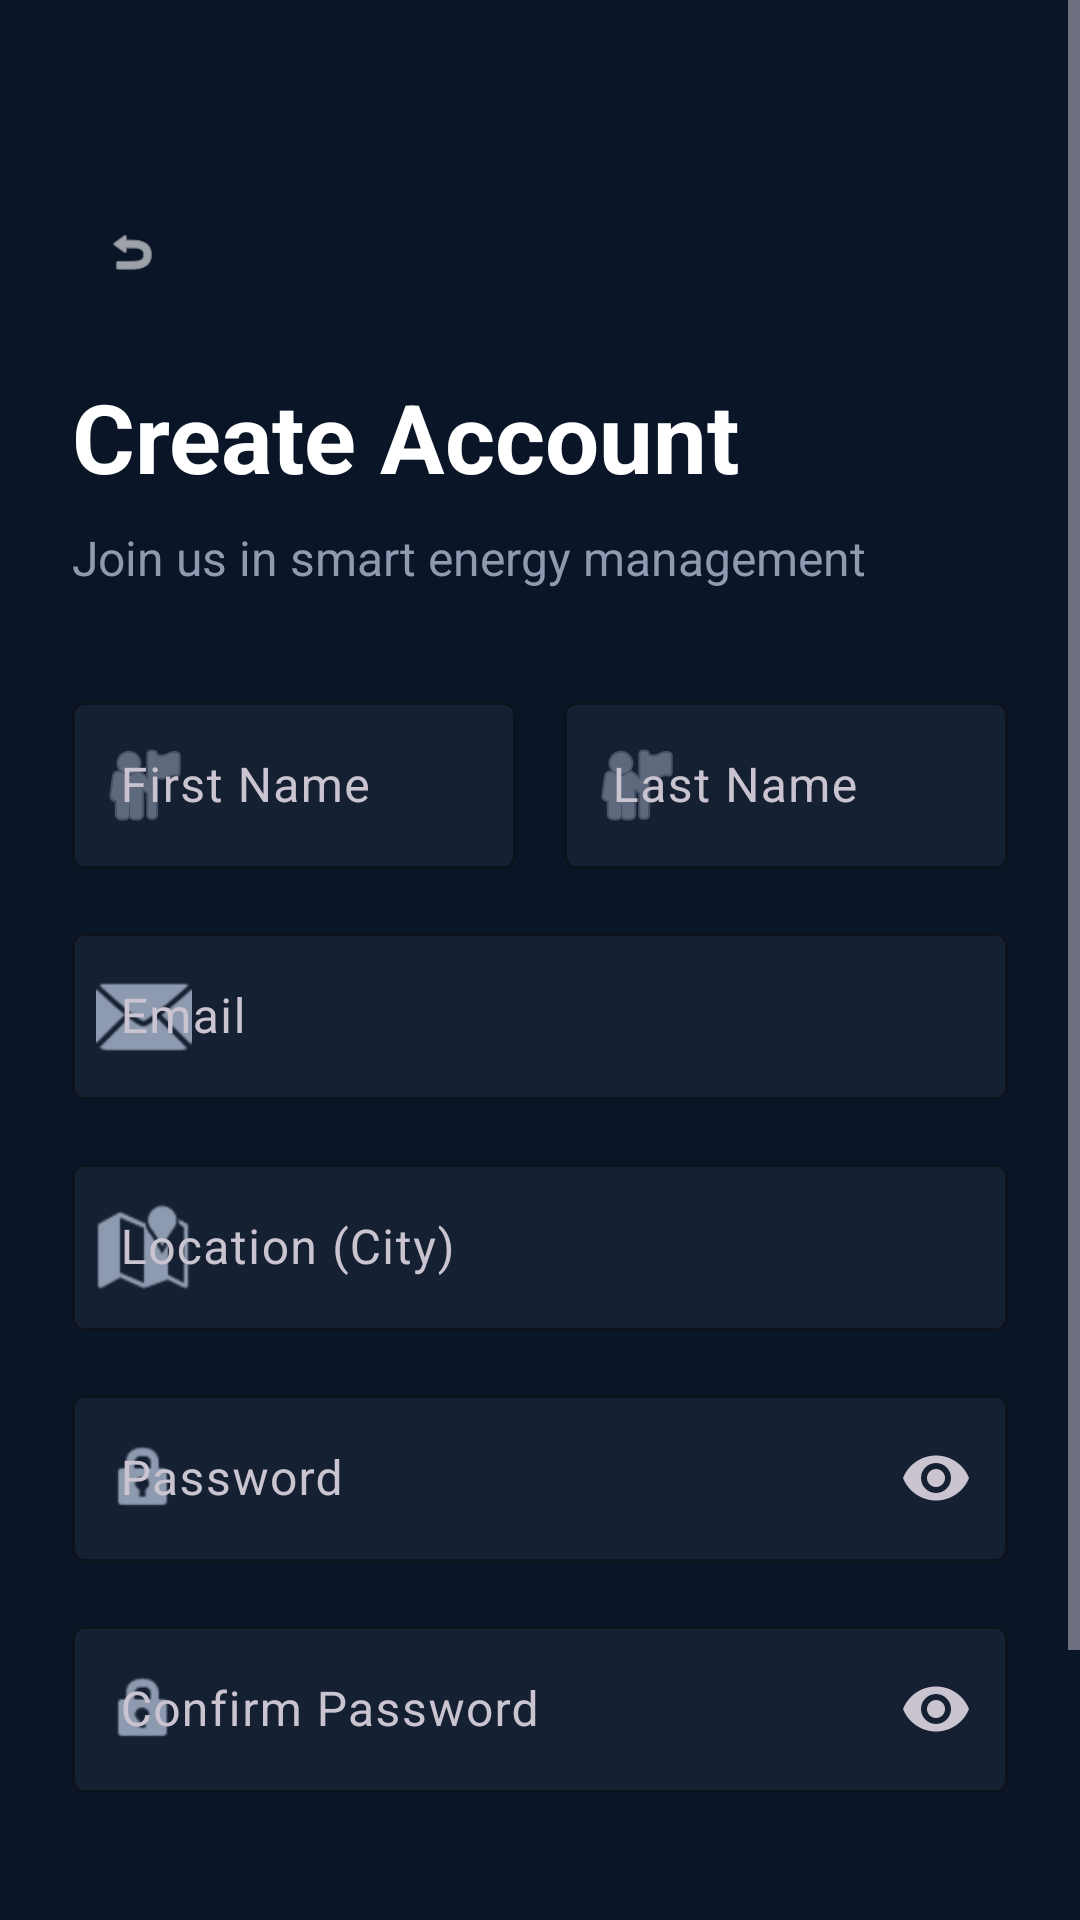

Named icons in this screenshot (1080px x 1920px) and their bounding boxes, (x1, y1, x2, y2):
revert: (113, 235, 152, 270)
